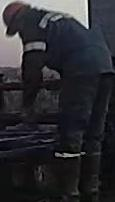helmet: (2, 1, 30, 36)
vest: (19, 8, 114, 78)
